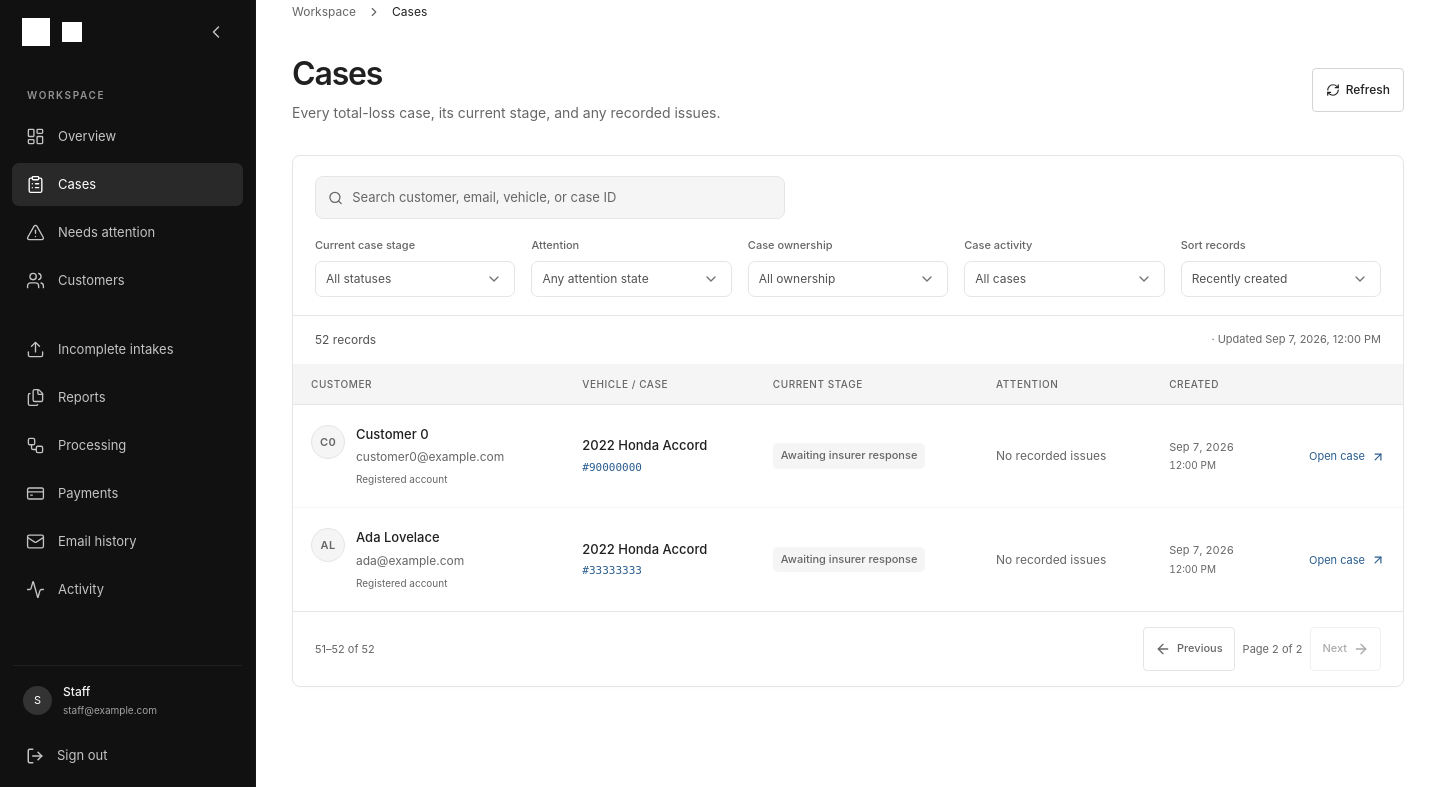
Scenario: admin operations workspace › preserves list pagination in the URL and resets it for search and ownership filters
This screenshot has width=1440, height=787.
Expected: the text "Page 2 of 2" is shown, [1243,640,1302,657]
Click the button with aria-label "Previous page" at (1189, 649), box [1143,627,1235,671]
(page scrolled)
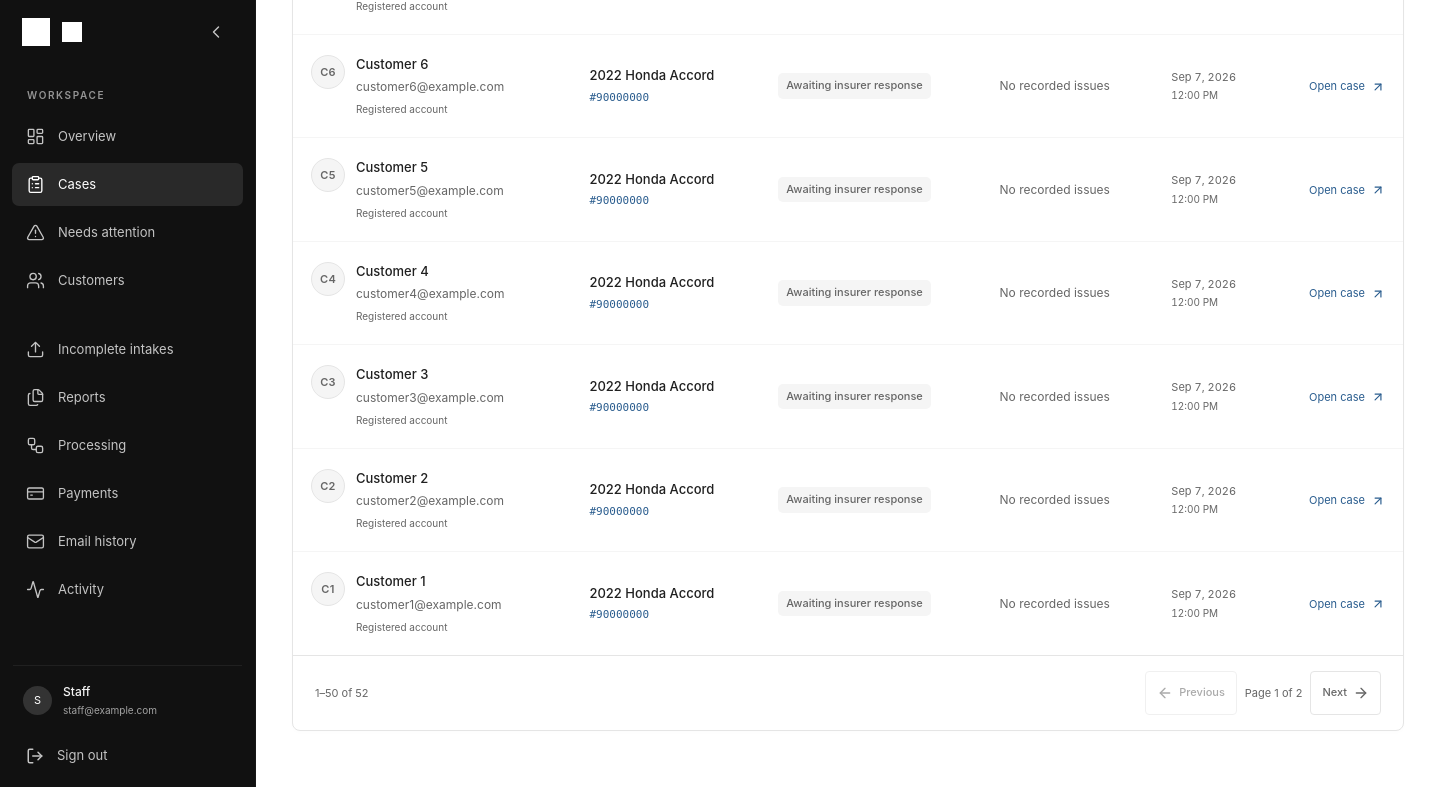
Expected: the text "Page 1 of 2" is shown, [1245,684,1302,701]
Click the button with aria-label "Next page" at (1346, 693), box [1310,671,1381,715]
(page scrolled)
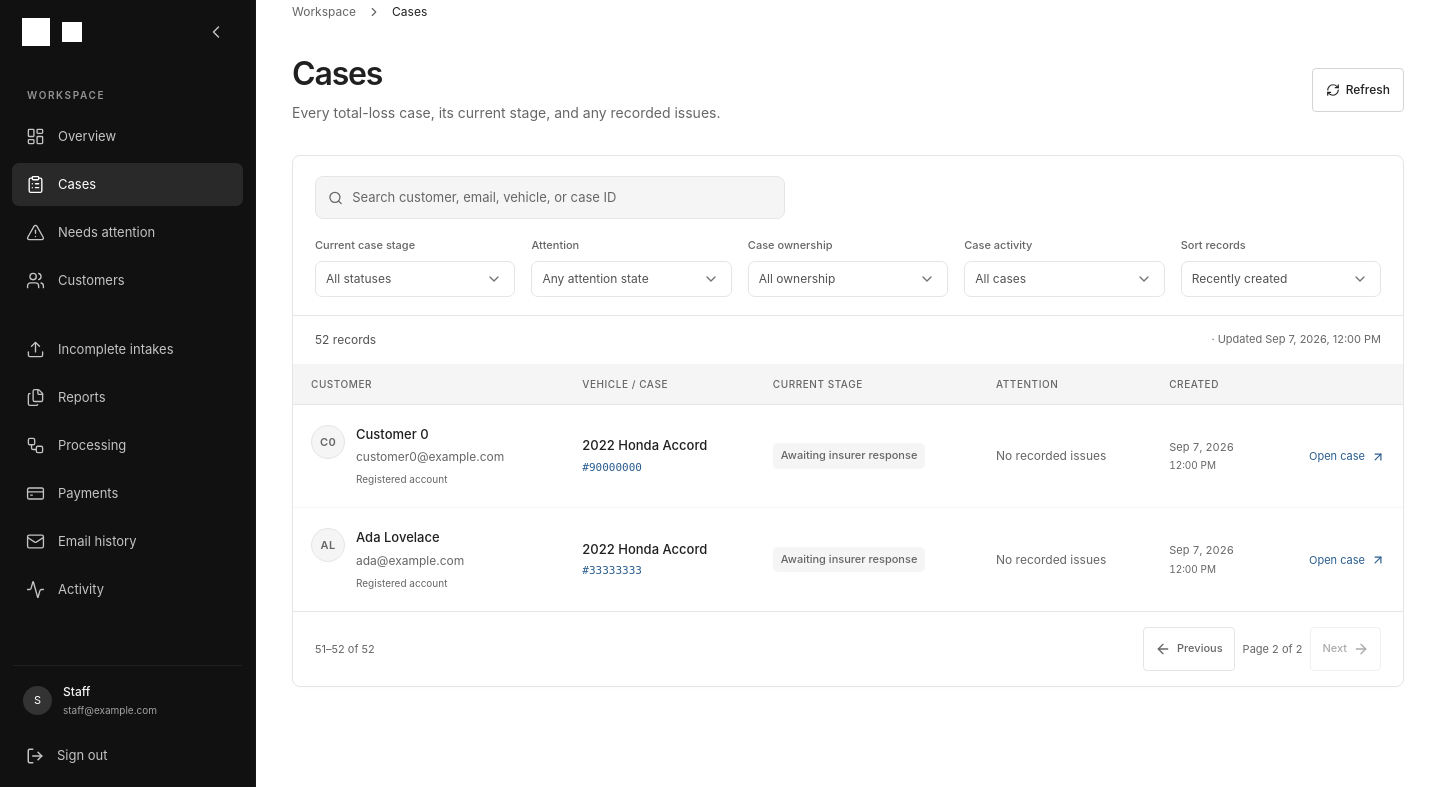
Expected: the text "Page 2 of 2" is shown, [1243,640,1302,657]
Type "Ada" into the search field named "Search cases" at (562, 198), box [352,177,772,218]
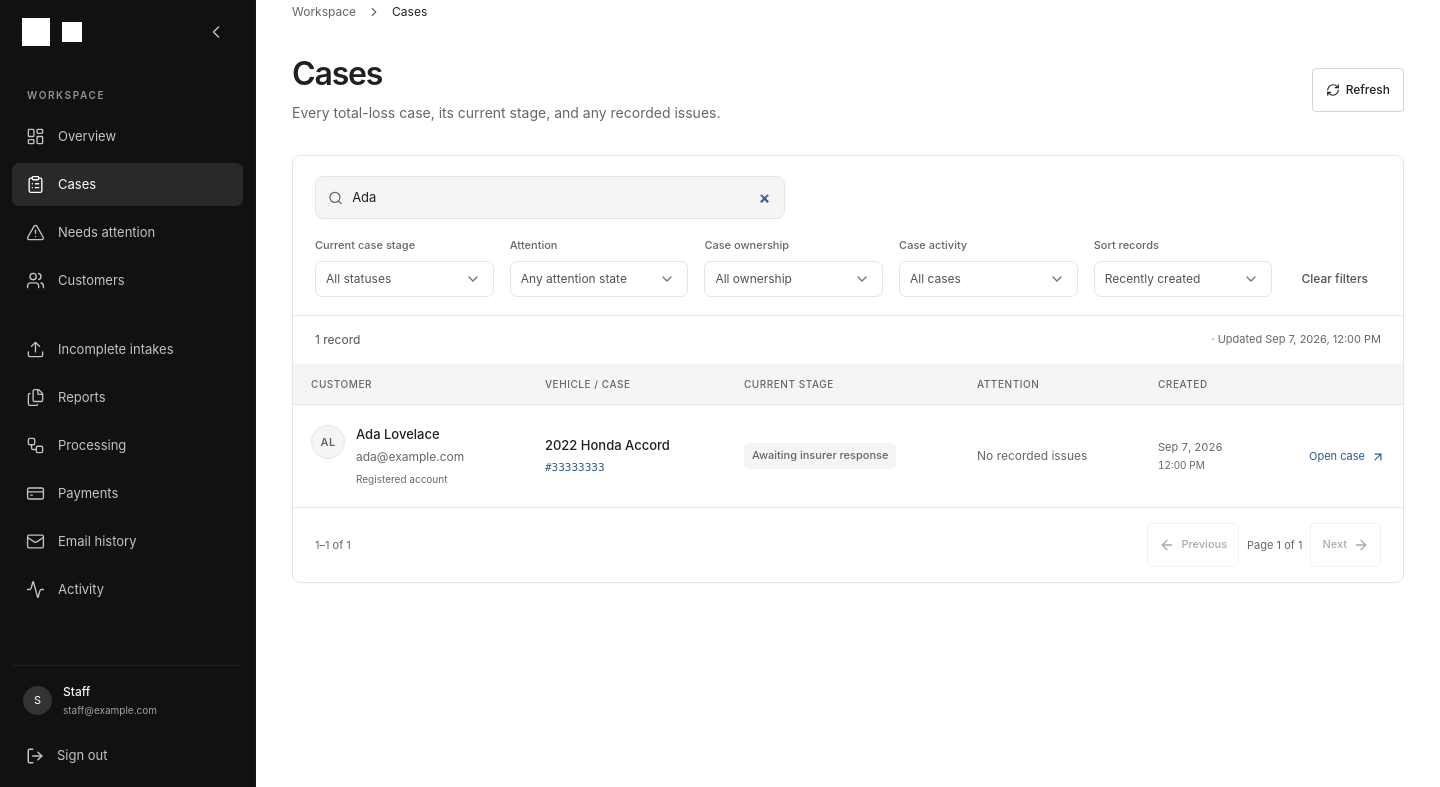
Expected: the link "Ada Lovelace" is shown, [356,426,440,442]
Select "Guest sessions" in the dropdown labelled "Case ownership" at (794, 279), box [704,261,883,297]
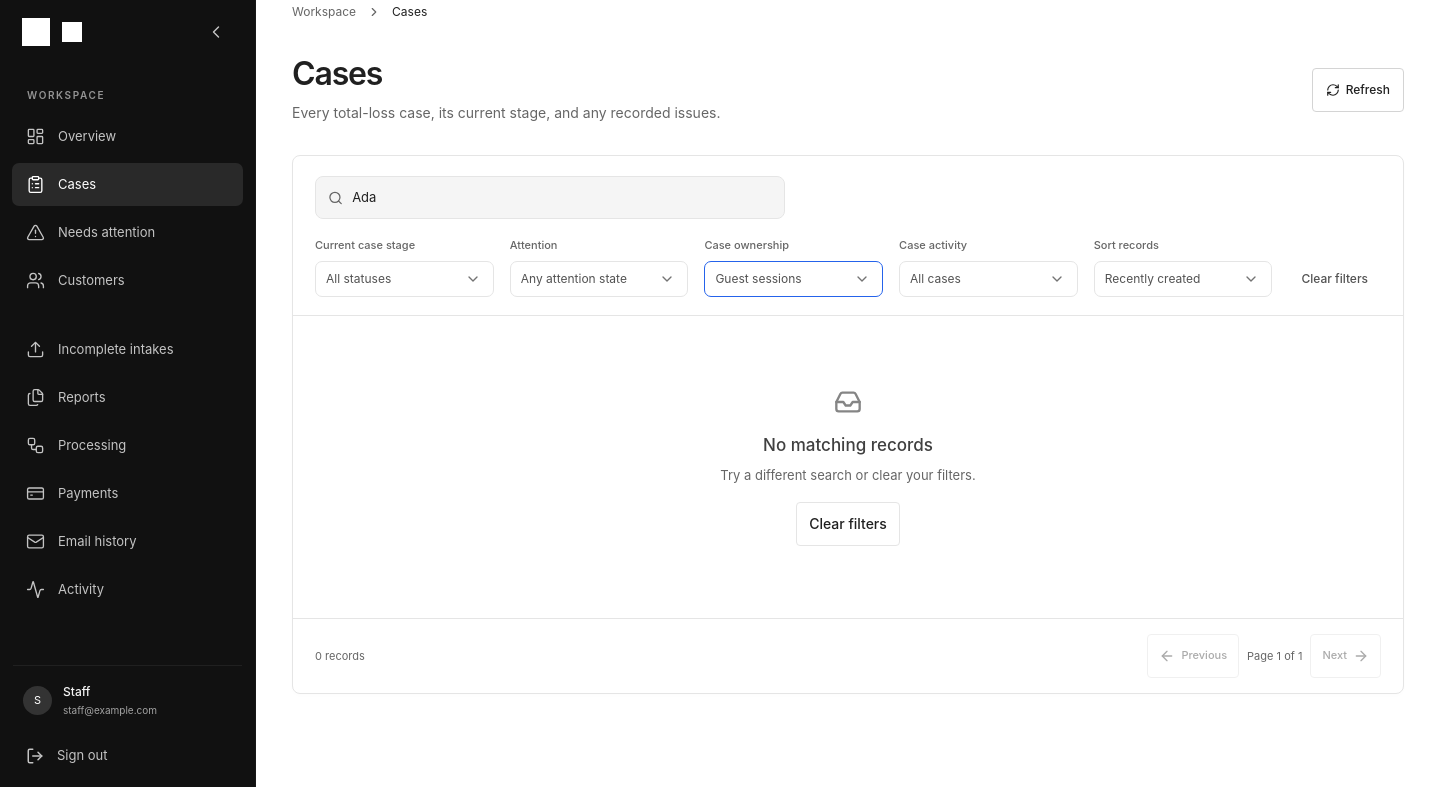
Expected: the heading "No matching records" is shown, [763,435,933,455]
Click the button "Clear filters" below "Sort records" at (1335, 279), box [1288,261,1381,297]
(page scrolled)
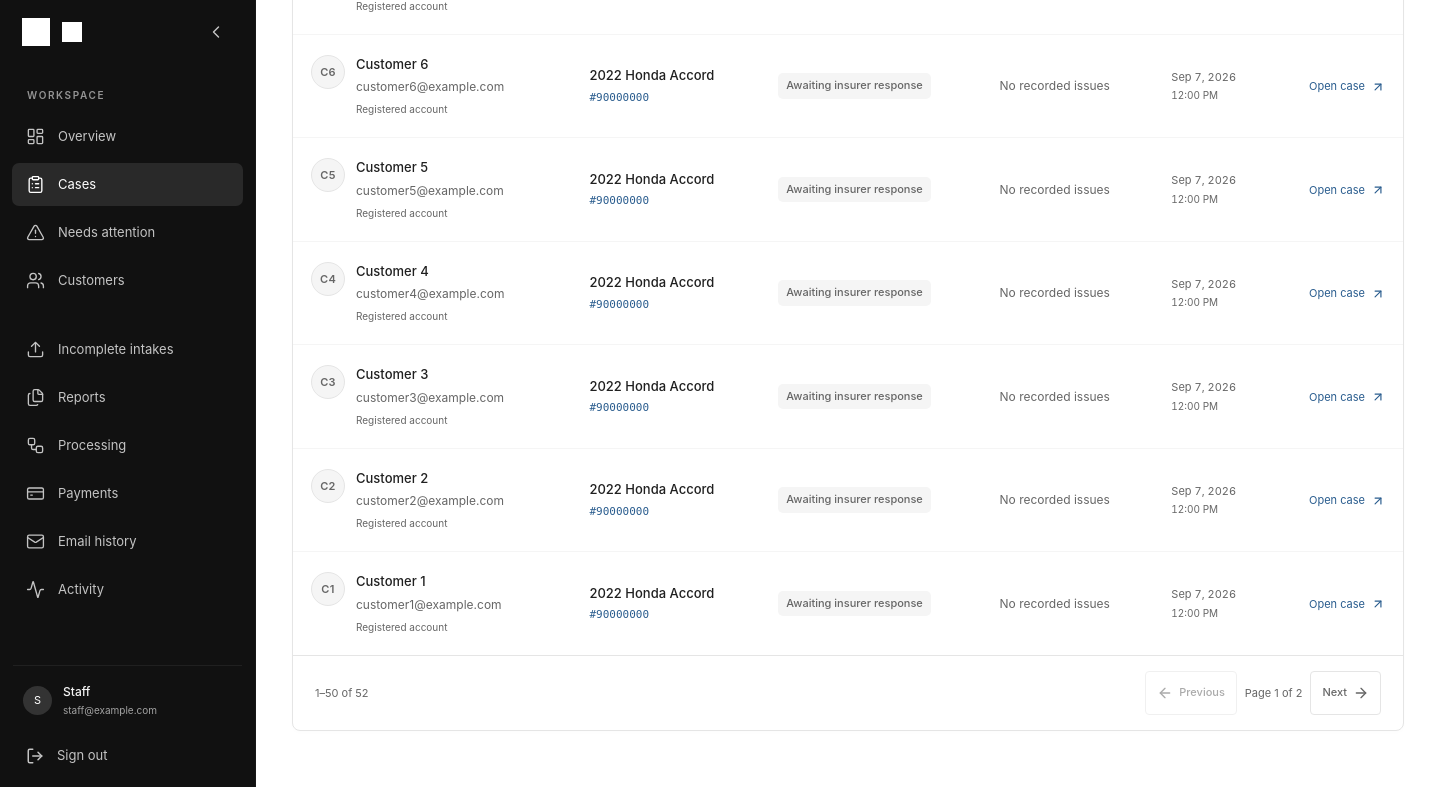
Expected: the text "Page 1 of 2" is shown, [1245,684,1302,701]
